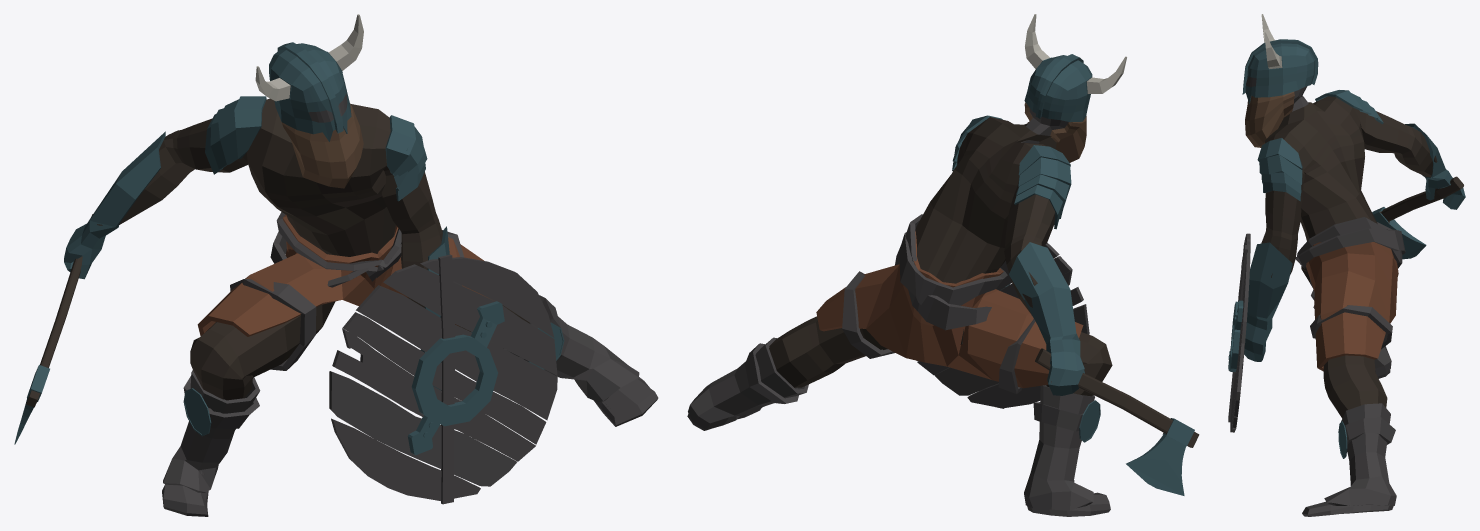
File: Viking.glb
The picture shows the model from 3 angles, left to right: view 1: azimuth 30°, elevation 25°; view 2: azimuth 150°, elevation 25°; view 3: azimuth 270°, elevation 25°; orthographic projection. The views are drawn at different scales.
Visible parts, largest first — view 1: unnamed (×18); view 2: unnamed (×18); view 3: unnamed (×19).
Boxes of the visible parts, bbox=[...] form: unnamed (×18): bbox=[26, 14, 658, 516]; unnamed (×18): bbox=[687, 14, 1199, 516]; unnamed (×19): bbox=[1228, 14, 1465, 516].
Size of the model in its own units: 1.94 by 1.59 by 0.9034.
